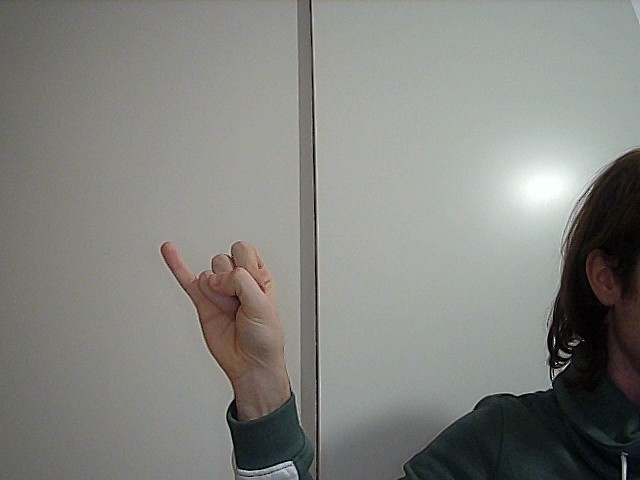j: (145, 228, 298, 377)
